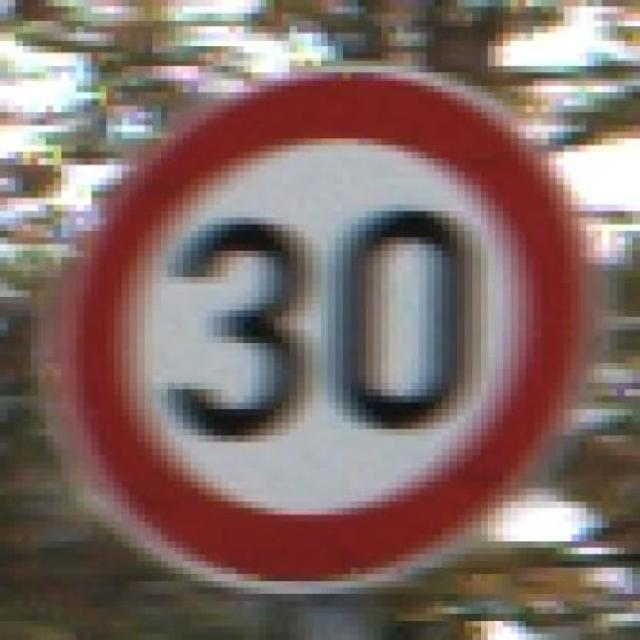Speed Limit 30 KMPh: (38, 39, 602, 621)
